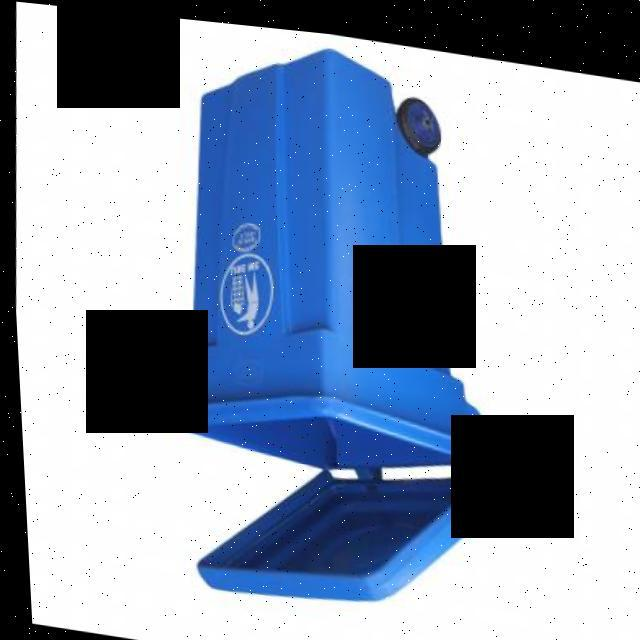bin: (107, 9, 563, 640)
